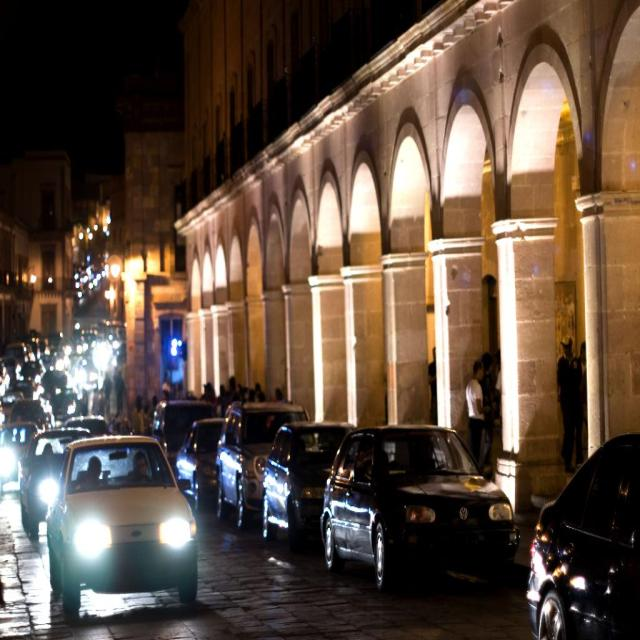car: (16, 433, 200, 627)
